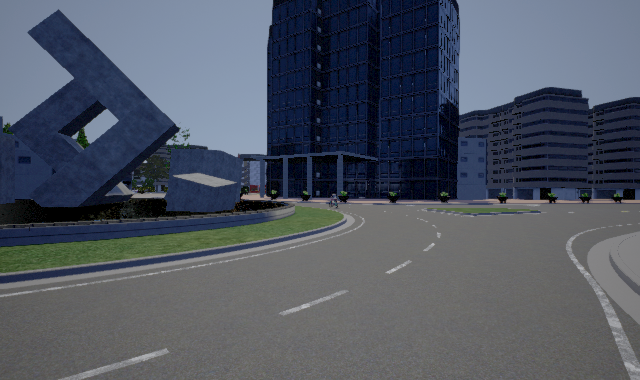bike: (325, 192, 340, 208)
